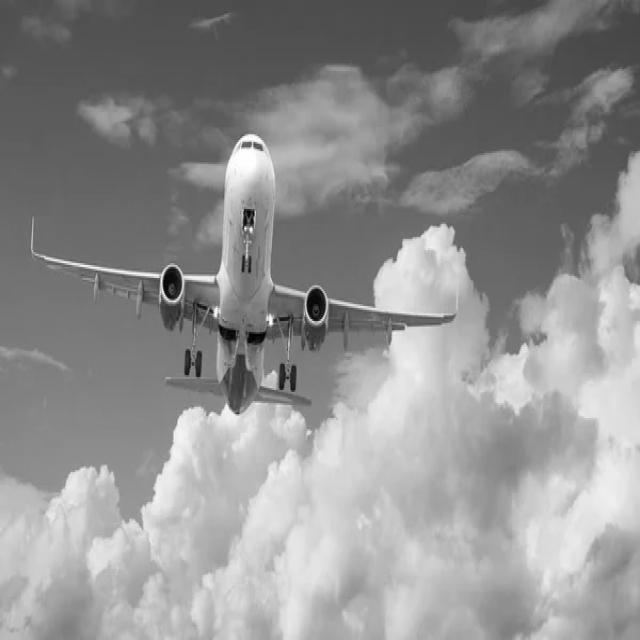Aircraft: (27, 134, 456, 405)
